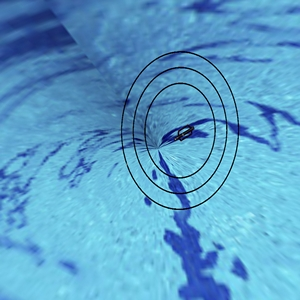circle: (114, 38, 250, 225)
submarine: (167, 120, 197, 151)
